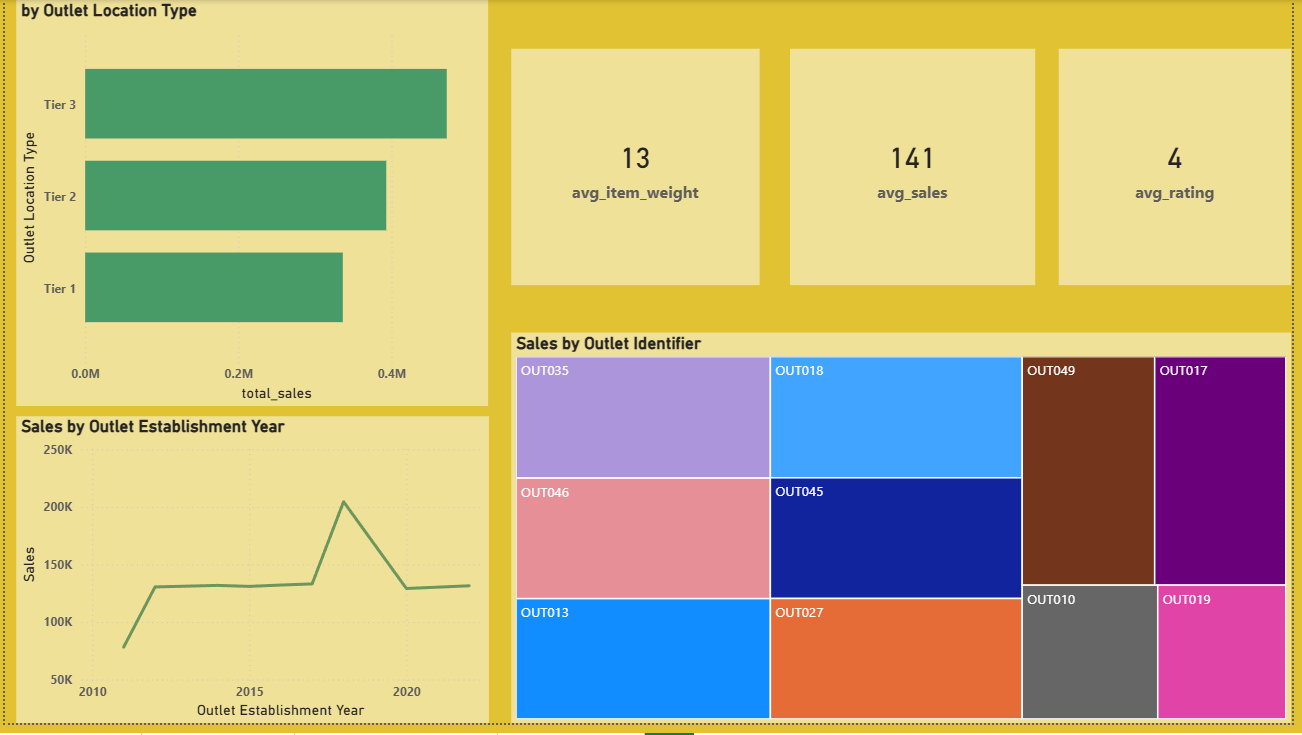

What the dashboard file says about the page in this screenshot:
{"tool":"powerbi","page":{"name":"Outlet Analysis","canvas":[1280,720],"ordinal":1},"visuals":[{"type":"clusteredBarChart","title":"by Outlet Location Type","fields":{"Category":["Blinkit Data.Outlet Location Type"],"Y":["Blinkit Data.total_sales"]},"box":[10.7,0,469.9,404],"z":0},{"type":"lineChart","title":"Sales by Outlet Establishment Year","fields":{"Y":["Sum(Blinkit Data.Sales)"],"Category":["Blinkit Data.Outlet Establishment Year"]},"box":[11,414,470,306],"z":1000},{"type":"treemap","title":" Sales by Outlet Identifier","fields":{"Group":["Blinkit Data.Outlet Identifier"],"Values":["Sum(Blinkit Data.Sales)"]},"box":[503.7,331,776,389.8],"z":2000},{"type":"card","fields":{"Values":["Blinkit Data.avg_sales"]},"box":[781.3,48.1,243.8,234.9],"z":3000},{"type":"card","fields":{"Values":["Blinkit Data.avg_rating"]},"box":[1048.3,48.1,231.4,234.9],"z":4000},{"type":"card","fields":{"Values":["Blinkit Data.avg_item_weight"]},"box":[503.7,48.1,247.4,234.9],"z":5000}]}

Visuals, with their boxes in screenshot pixels (x1, y1, x2, y2), scaled from the page's 1280x720 canvas onto the 1302x735 screenshot:
"by Outlet Location Type" clusteredBarChart: rect(11, 0, 489, 412)
"Sales by Outlet Establishment Year" lineChart: rect(11, 423, 489, 734)
" Sales by Outlet Identifier" treemap: rect(512, 338, 1301, 734)
card - Blinkit Data.avg_sales: rect(795, 49, 1043, 289)
card - Blinkit Data.avg_rating: rect(1066, 49, 1301, 289)
card - Blinkit Data.avg_item_weight: rect(512, 49, 764, 289)
